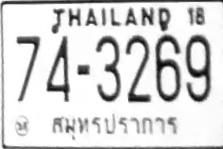2: (125, 34, 150, 102)
3: (94, 35, 120, 102)
4: (45, 34, 70, 102)
6: (155, 34, 181, 102)
7: (15, 35, 40, 102)
9: (184, 34, 212, 102)
SPK: (48, 111, 184, 138)
